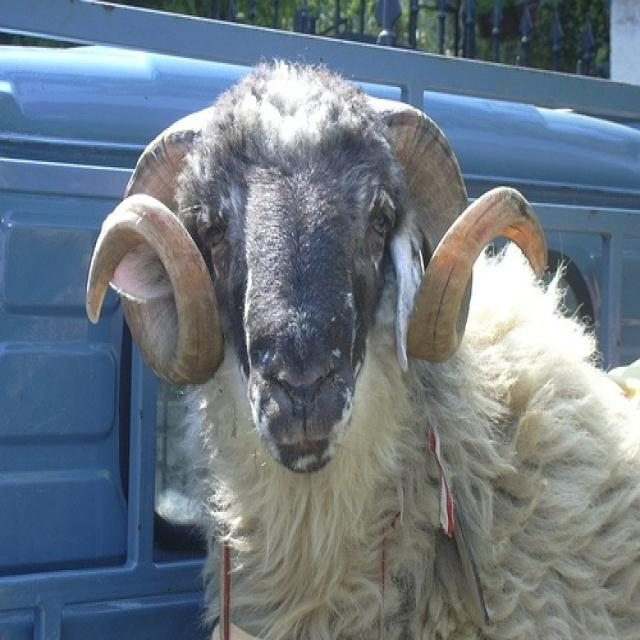sheep: (91, 60, 639, 638)
